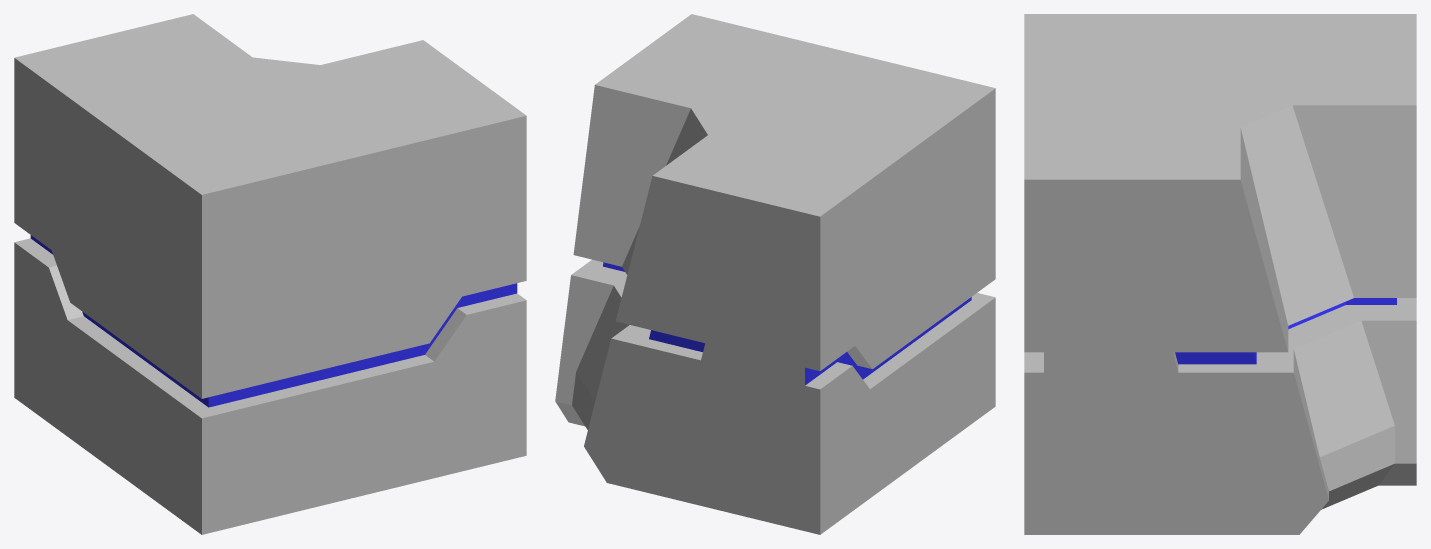
The model's file is x_ZAMOK_ZABOR_wall_part13_corner1_rmstrd.fbx.
3 views of the same model, side by side, from view 1: azimuth 30°, elevation 25°; view 2: azimuth 150°, elevation 25°; view 3: azimuth 270°, elevation 25° (orthographic). The views are drawn at different scales.
Visible parts, largest first — view 1: x_ZAMOK_ZABOR_wall_part13_corner1_rmstrd1; view 2: x_ZAMOK_ZABOR_wall_part13_corner1_rmstrd1; view 3: x_ZAMOK_ZABOR_wall_part13_corner1_rmstrd1.
Boxes of the visible parts, x1,y1,x2,y2 form: x_ZAMOK_ZABOR_wall_part13_corner1_rmstrd1: [14, 14, 526, 534]; x_ZAMOK_ZABOR_wall_part13_corner1_rmstrd1: [555, 14, 995, 534]; x_ZAMOK_ZABOR_wall_part13_corner1_rmstrd1: [1024, 14, 1416, 534].
Bounding box in the file's own units: 2 × 2 × 2.
